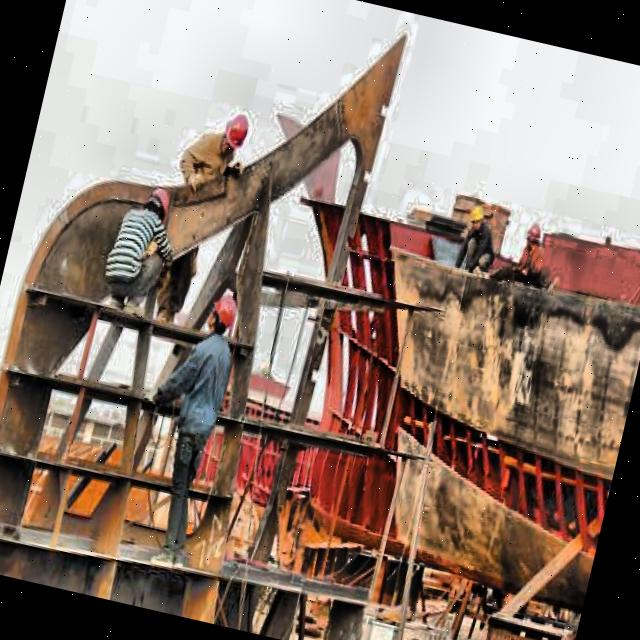helmet: (199, 292, 241, 340), (216, 110, 253, 160), (136, 183, 176, 228), (521, 219, 545, 257), (464, 201, 490, 235)
